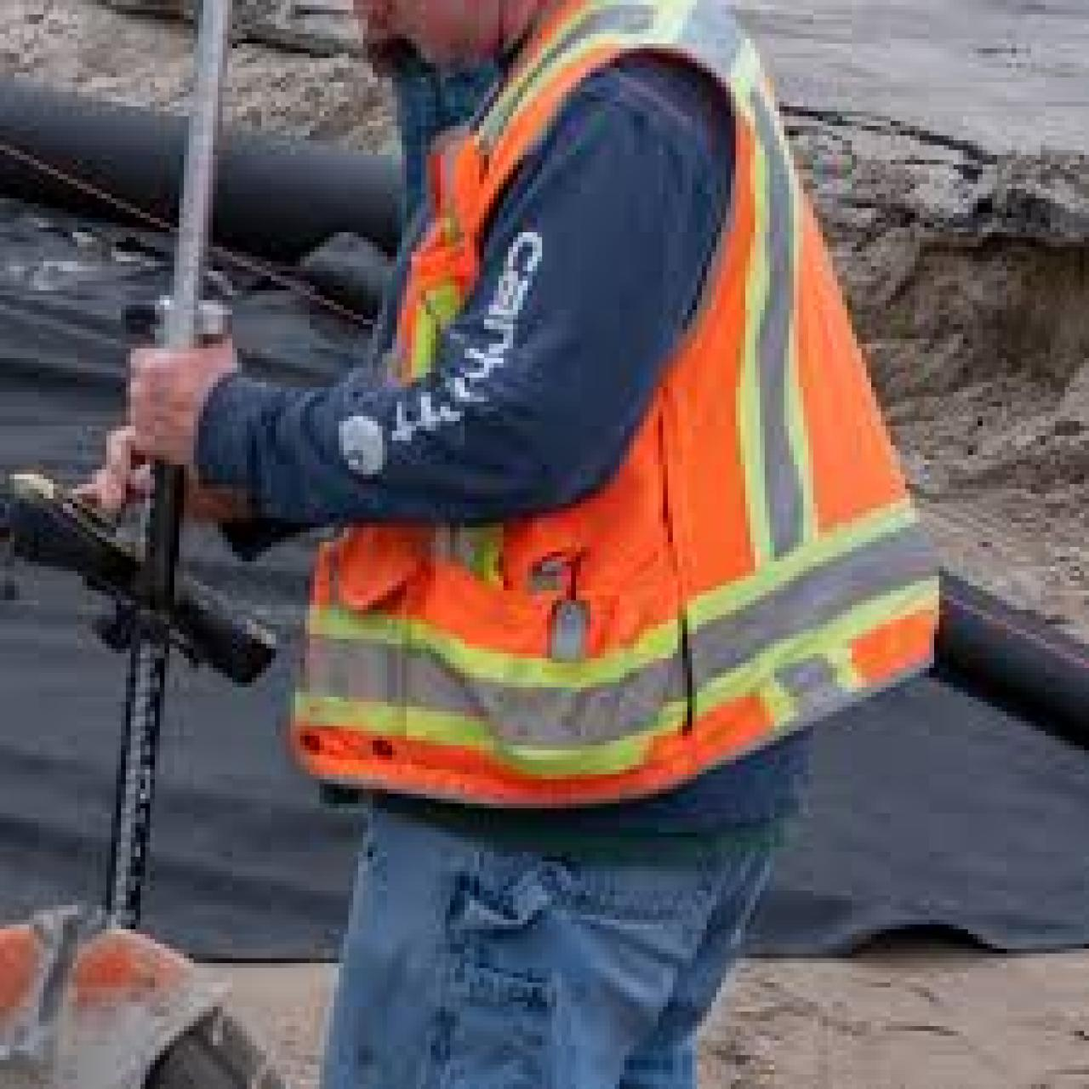Person: (149, 0, 944, 1083)
Safety_Vest: (271, 9, 934, 788)
